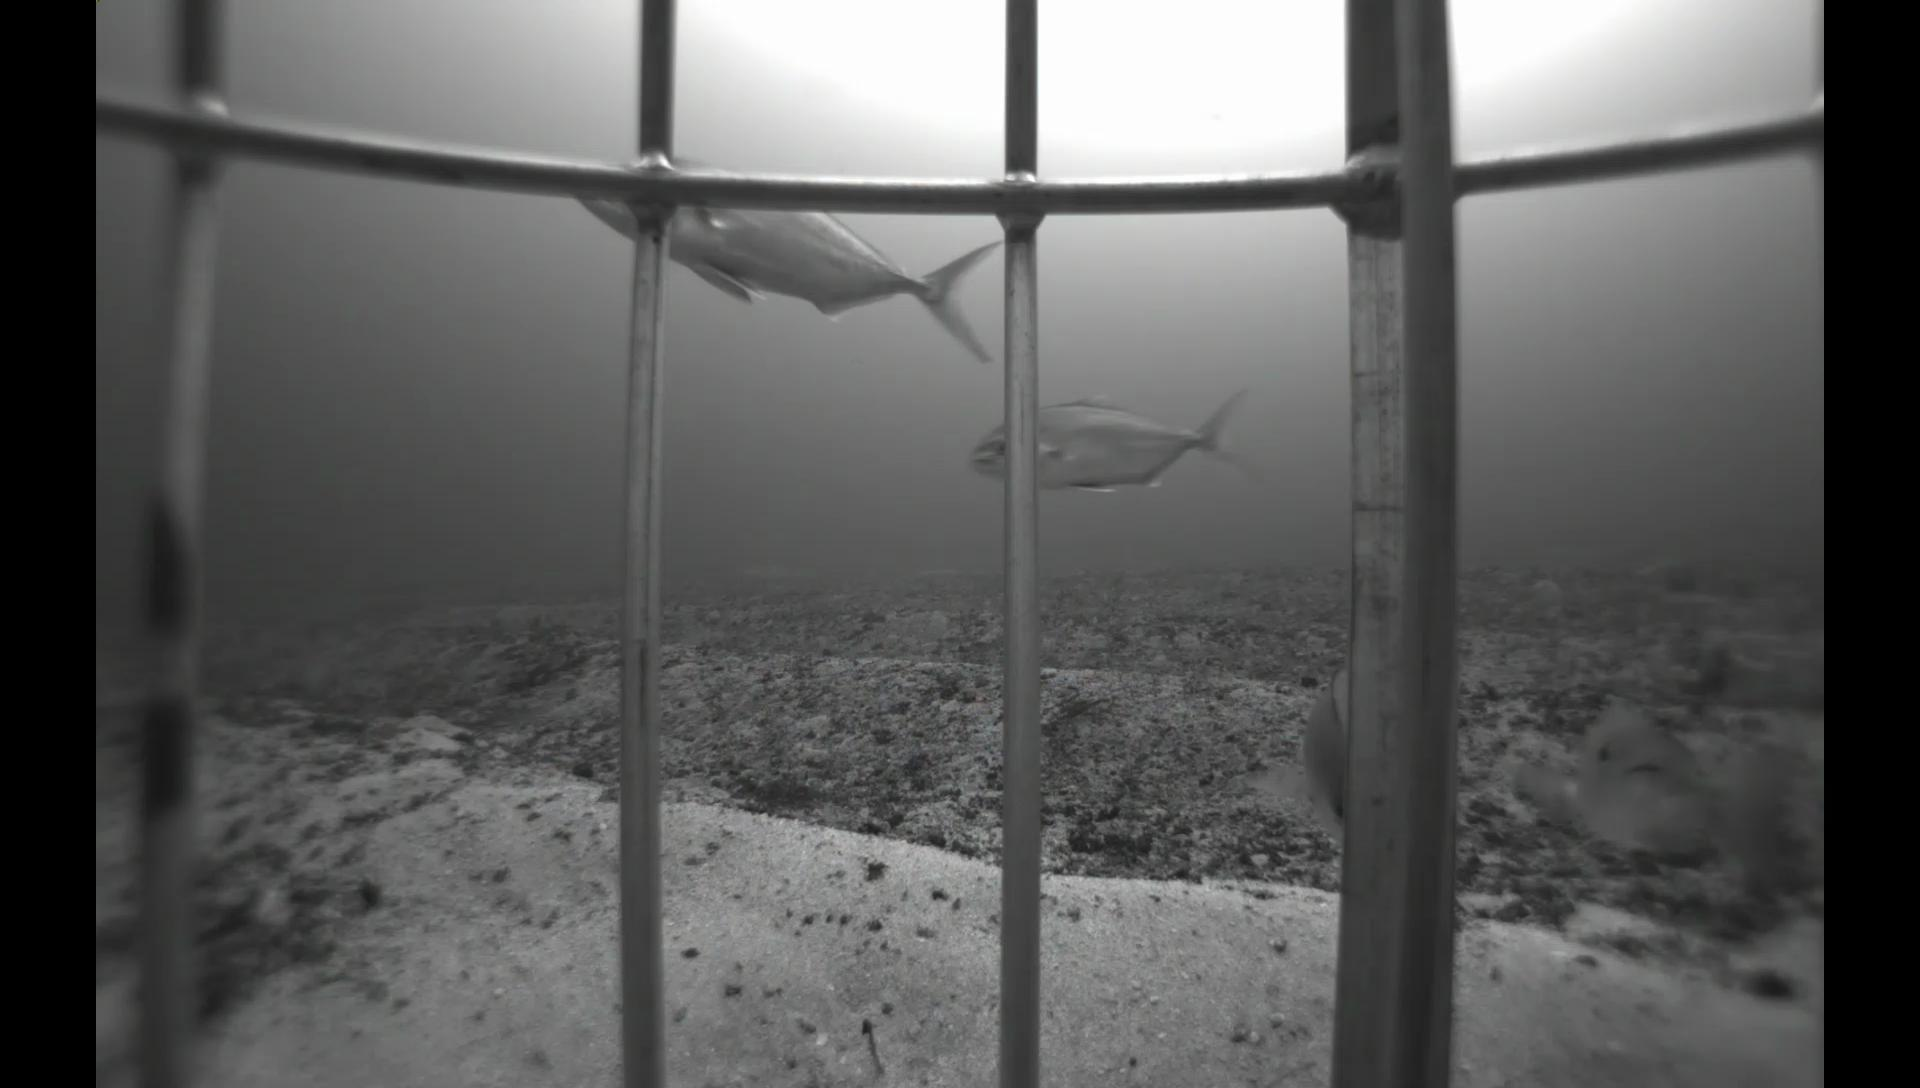RHOMBOPLITESAURORUBENS-170152001: (1497, 700, 1818, 918), (1225, 648, 1348, 860)
SERIOLAFASCIATA-170113103: (564, 146, 1005, 372), (945, 373, 1302, 512)
